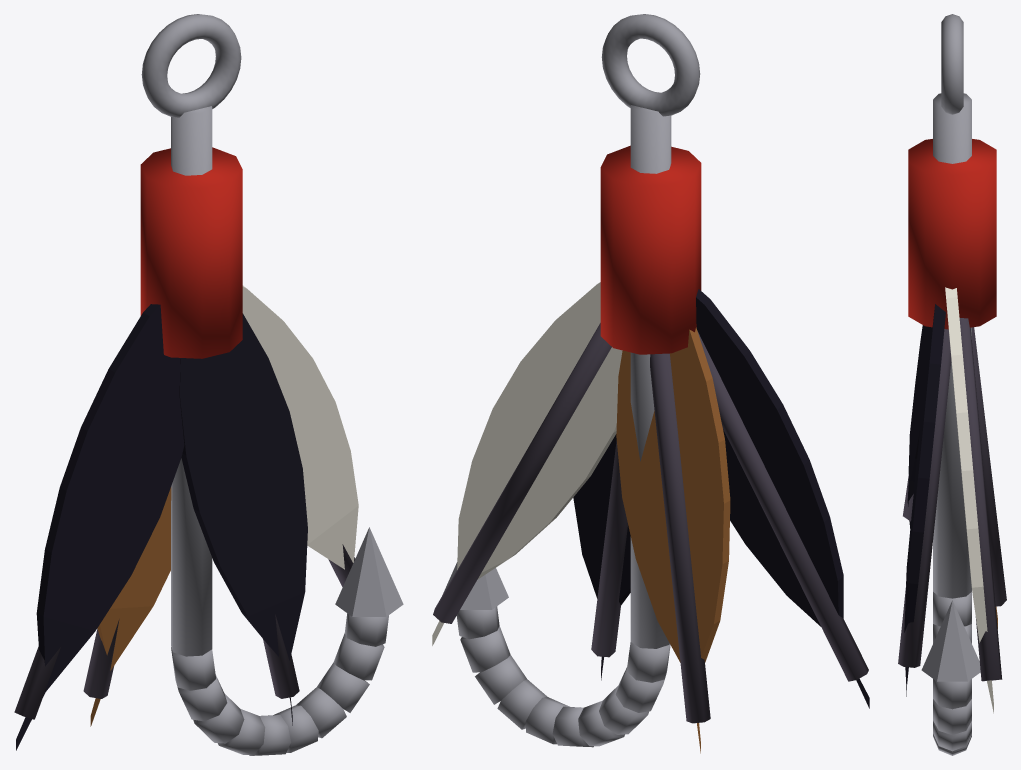
The model's file is federkoeder.glb.
The picture shows the model from 3 angles, left to right: view 1: azimuth 30°, elevation 25°; view 2: azimuth 150°, elevation 25°; view 3: azimuth 270°, elevation 25°; orthographic projection. The views are drawn at different scales.
Visible parts, largest first — view 1: Cone; view 2: Cone; view 3: Cone.
Boxes of the visible parts, <box> form: Cone: <box>14,14,403,755</box>; Cone: <box>432,14,869,753</box>; Cone: <box>898,14,1006,755</box>.
Size of the model in its own units: 0.0542 by 0.098 by 0.014.
